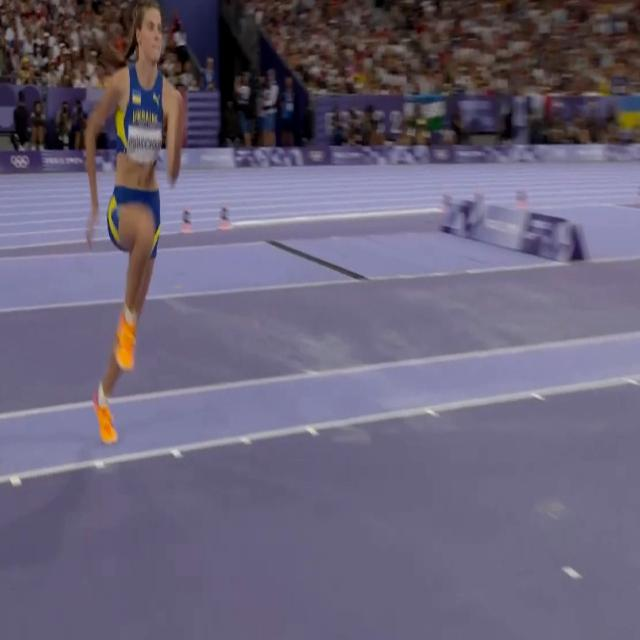run: (86, 0, 191, 447)
